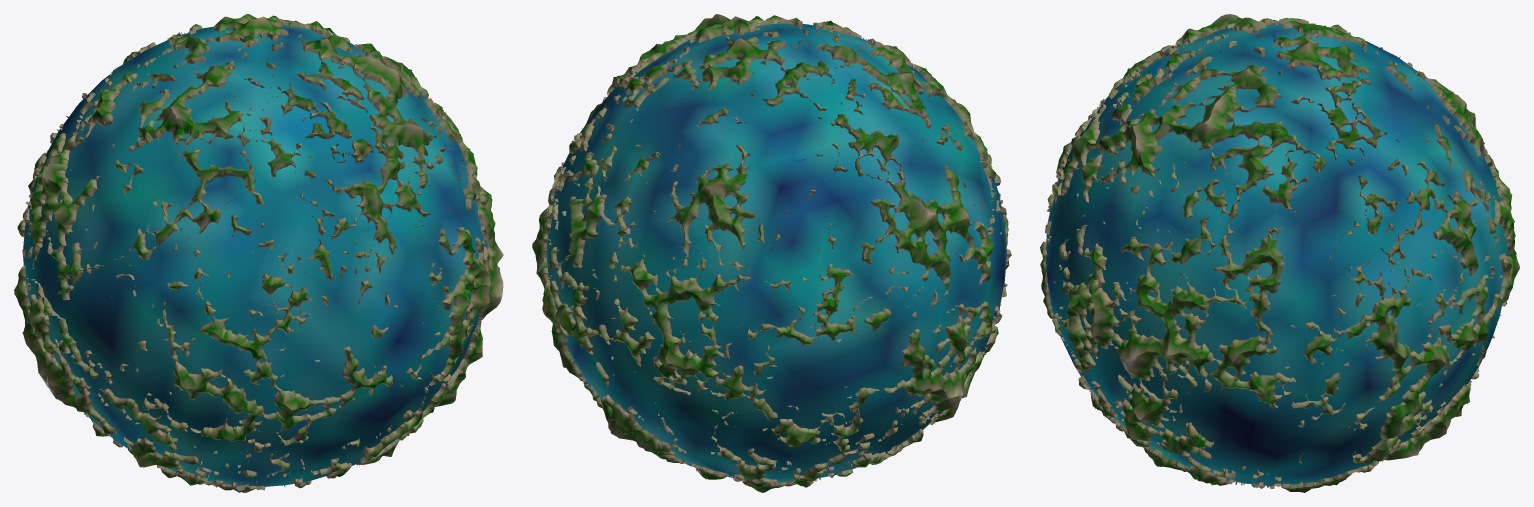
The model's file is planet.glb.
3 renders of one model, left to right at view 1: azimuth 30°, elevation 25°; view 2: azimuth 150°, elevation 25°; view 3: azimuth 270°, elevation 25°, orthographic.
Visible parts, largest first — view 1: geo1; view 2: geo1; view 3: geo1.
Boxes of the visible parts, left/top/right/bottom form: geo1: left=14, top=14, right=503, bottom=492; geo1: left=532, top=14, right=1011, bottom=492; geo1: left=1040, top=14, right=1519, bottom=492.
Size of the model in its own units: 1.04 by 1.05 by 1.04.
